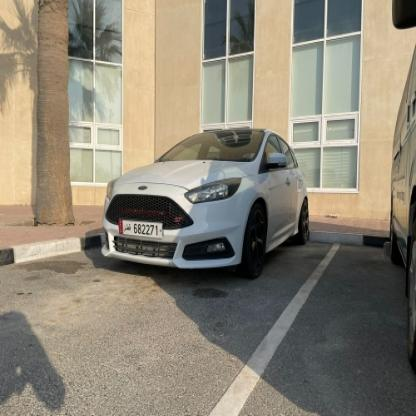np: (118, 219, 164, 241)
